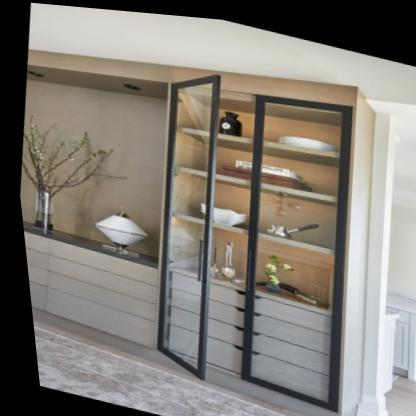Cupboard: (148, 66, 387, 416)
